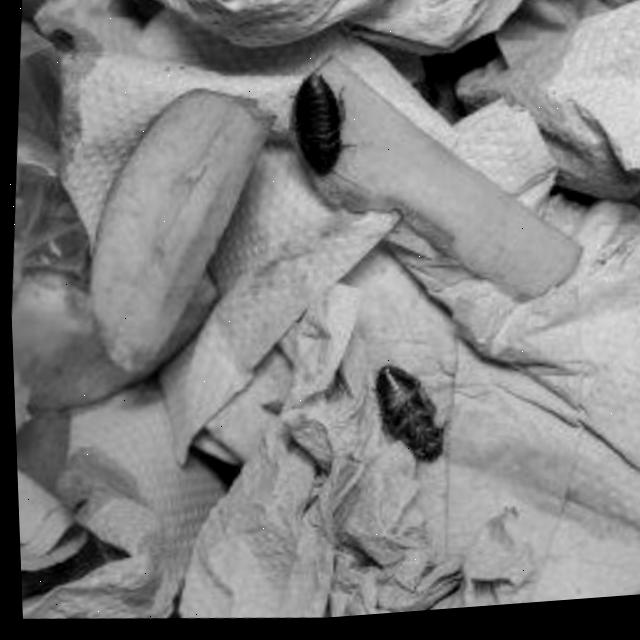Garbage: (9, 0, 640, 622)
